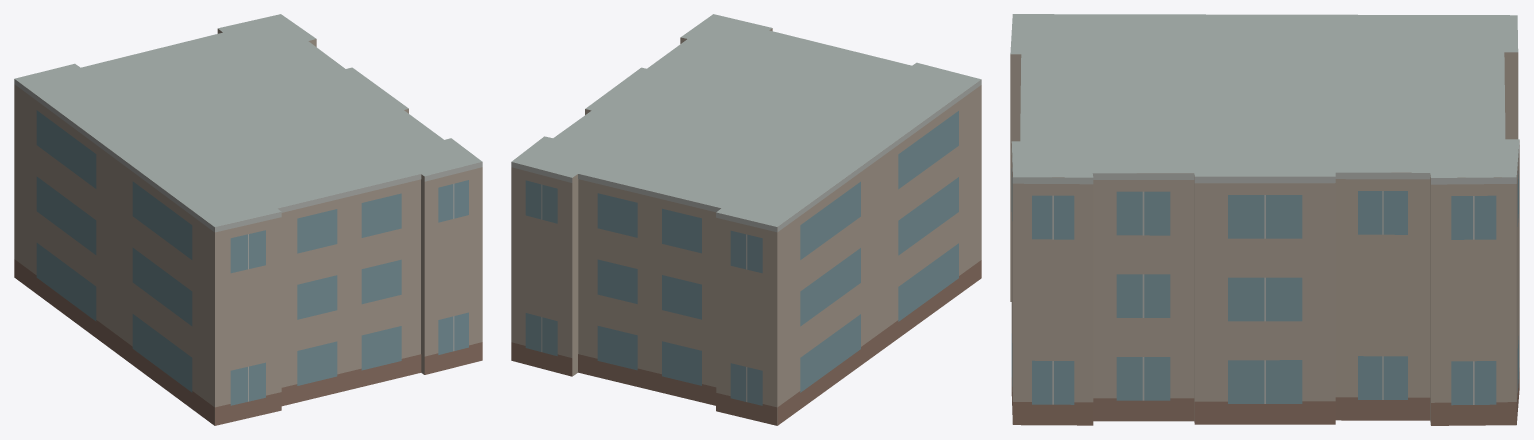
Rendered from survey-upis-33032625.glb.
3 renders of one model, left to right at view 1: azimuth 30°, elevation 25°; view 2: azimuth 150°, elevation 25°; view 3: azimuth 270°, elevation 25°, orthographic. The views are drawn at different scales.
Parts seen in each view (by area): view 1: survey-upis-33032625.tmp; view 2: survey-upis-33032625.tmp; view 3: survey-upis-33032625.tmp.
Boxes of the visible parts, left/top/right/bottom form: survey-upis-33032625.tmp: left=14, top=14, right=482, bottom=425; survey-upis-33032625.tmp: left=511, top=14, right=981, bottom=425; survey-upis-33032625.tmp: left=1010, top=14, right=1519, bottom=425.
Size of the model in its own units: 13 by 9.15 by 17.05.
